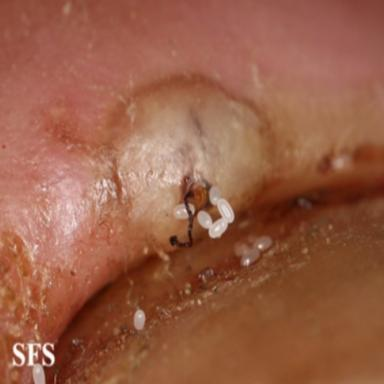Tungiasis: (115, 82, 266, 251), (234, 235, 273, 266), (133, 309, 145, 330)
